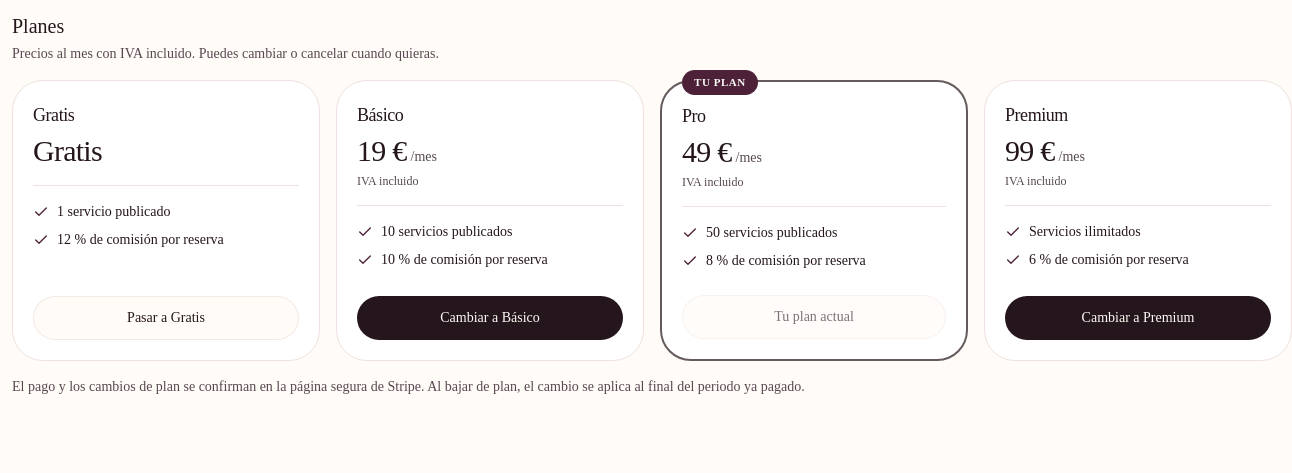
Test: PlanPicker › con suscripción viva cambia por el portal y Gratis cancela
This screenshot has width=1292, height=473.
Click the button "Cambiar a Premium" at (1138, 318), box x1=1005 y1=296 x2=1271 y2=340
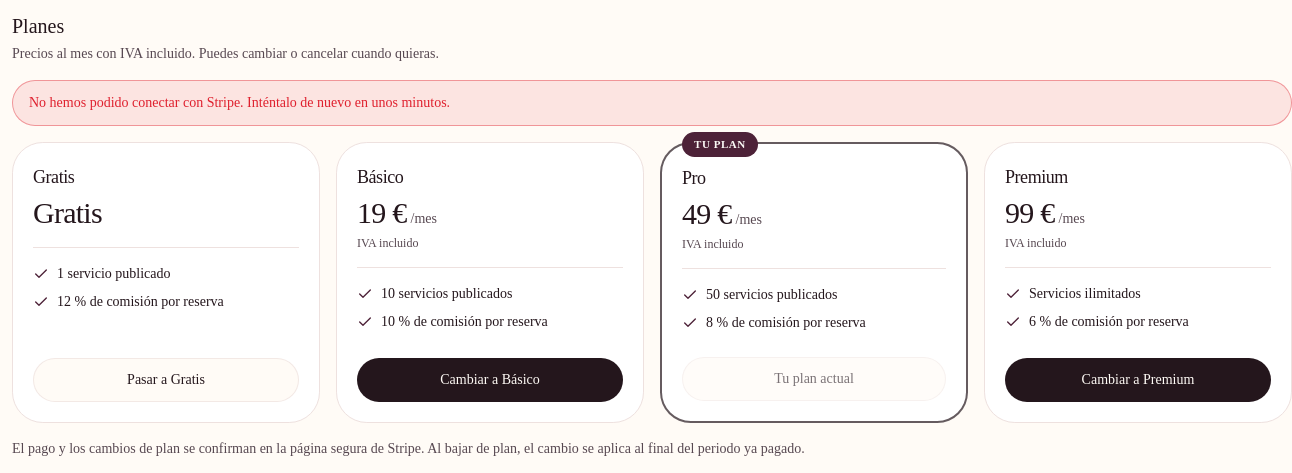
Result: the message reads "No hemos podido conectar con Stripe. Inténtalo de nuevo en unos minutos." at x1=29 y1=95 x2=450 y2=110
